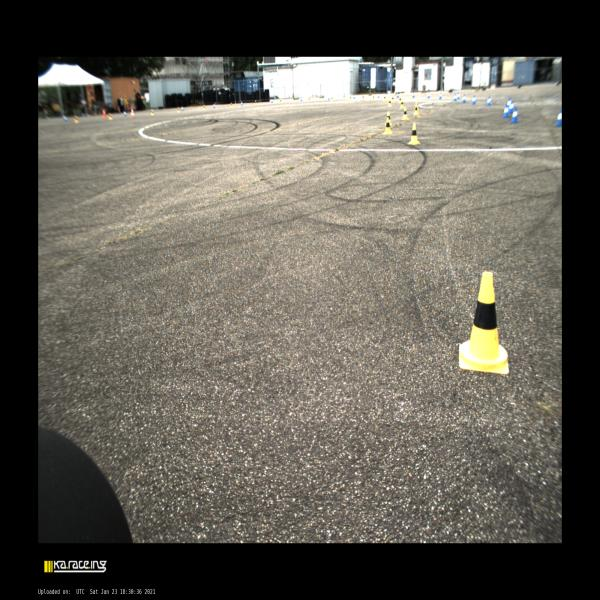blue_cone: (510, 107, 520, 124), (554, 107, 562, 128), (508, 100, 516, 114), (502, 104, 510, 118), (506, 97, 512, 110), (485, 96, 492, 107), (471, 95, 476, 105), (63, 114, 68, 122), (452, 93, 456, 103), (462, 94, 466, 103), (456, 92, 460, 100), (438, 92, 442, 100), (426, 91, 430, 99), (123, 110, 127, 117), (411, 91, 415, 98), (396, 92, 399, 100), (212, 103, 216, 109), (377, 92, 380, 99), (352, 94, 355, 100), (240, 100, 243, 106), (181, 106, 184, 112), (270, 98, 273, 103), (300, 95, 302, 102)
large_orange_cone: (130, 106, 135, 118), (102, 108, 107, 118)
yellow_cone: (459, 272, 509, 375), (407, 122, 420, 145), (383, 117, 392, 135), (401, 107, 409, 121), (385, 111, 392, 126), (413, 104, 419, 115), (400, 100, 405, 109), (360, 94, 366, 101), (388, 97, 392, 107), (348, 94, 353, 102), (108, 113, 113, 121), (74, 115, 79, 123), (398, 95, 402, 104), (390, 94, 394, 103), (383, 94, 388, 101), (372, 94, 376, 102), (330, 94, 334, 102), (307, 96, 311, 103), (150, 109, 154, 116), (202, 104, 206, 110), (177, 106, 180, 113), (229, 103, 233, 108), (279, 98, 282, 104), (254, 100, 257, 105)
